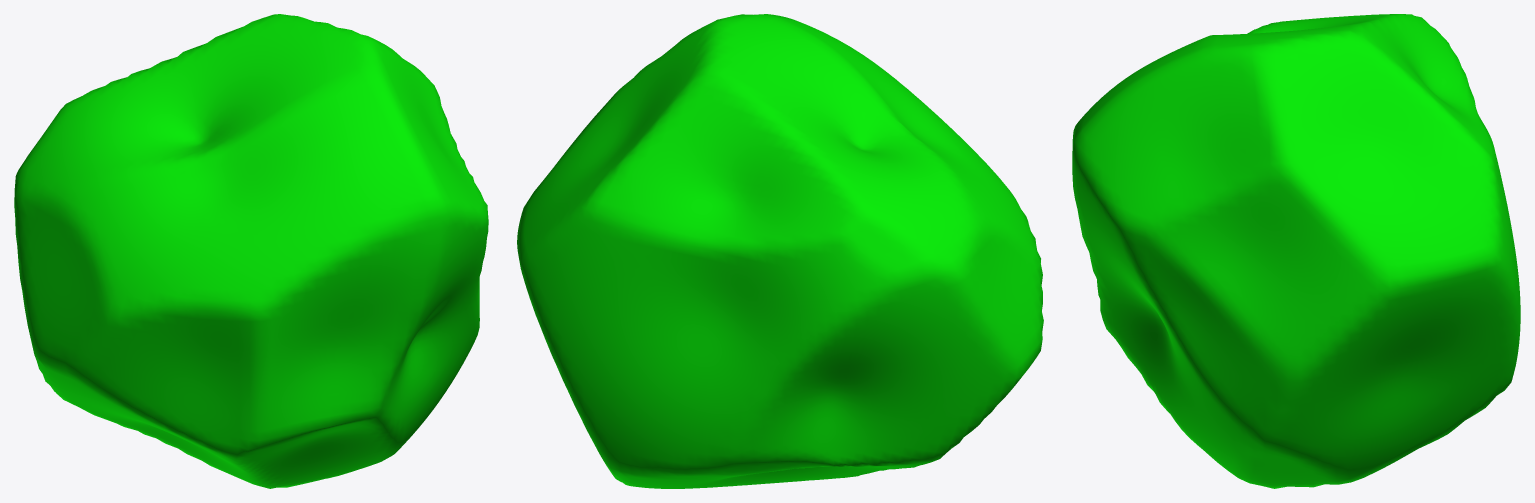
Rendered from rock2-SP.fbx.
3 renders of one model, left to right at view 1: azimuth 30°, elevation 25°; view 2: azimuth 150°, elevation 25°; view 3: azimuth 270°, elevation 25°, orthographic. The views are drawn at different scales.
Visible parts, largest first — view 1: Cube; view 2: Cube; view 3: Cube.
Part boxes in pixels (left/top/right/bottom): Cube: left=14, top=14, right=488, bottom=488; Cube: left=517, top=14, right=1043, bottom=488; Cube: left=1072, top=14, right=1520, bottom=488.
Bounding box in the file's own units: 203 × 192 × 177.
